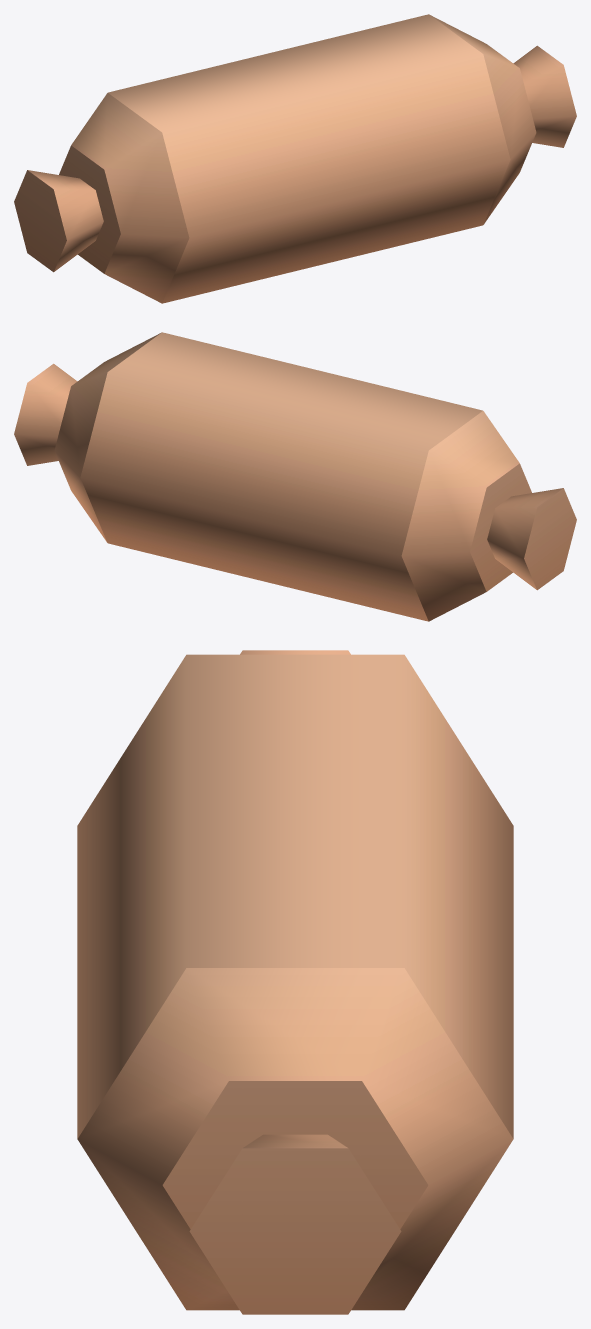
Rendered from korv.glb.
The picture shows the model from 3 angles, top to bottom: view 1: azimuth 30°, elevation 25°; view 2: azimuth 150°, elevation 25°; view 3: azimuth 270°, elevation 25°; orthographic projection. The views are drawn at different scales.
Parts seen in each view (by area): view 1: sausage; view 2: sausage; view 3: sausage.
Part boxes in pixels (x1,y1,x2,y2): sausage: (14,14,576,303); sausage: (14,332,576,621); sausage: (77,650,513,1314).
Bounding box in the file's own units: 0.3707 × 0.1189 × 0.1372.
1 material, 1 textured.
